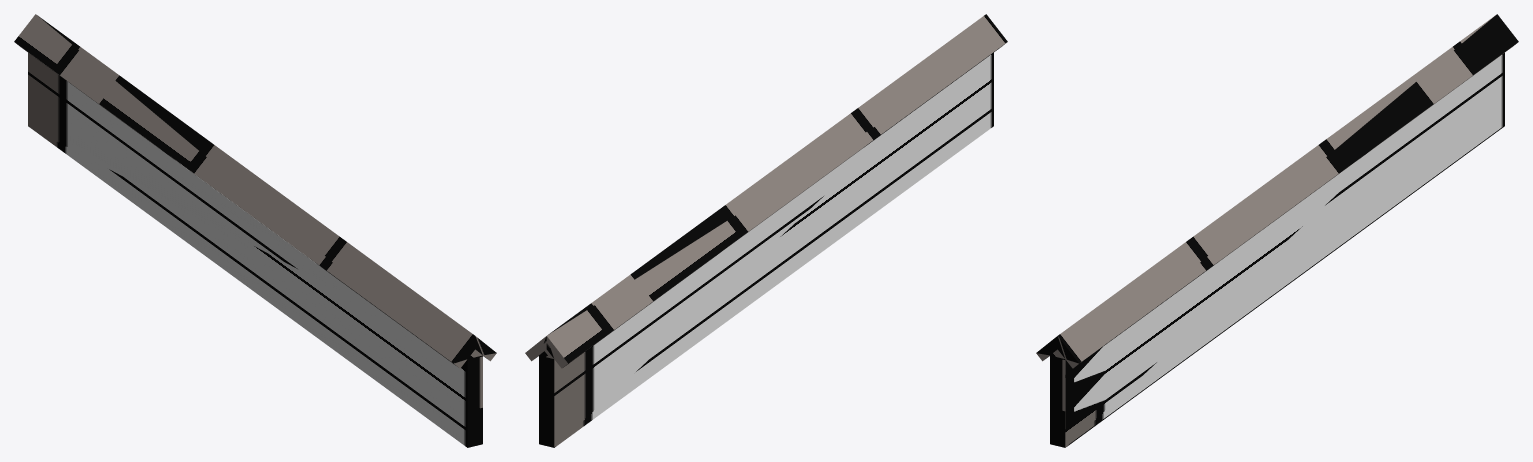
Rendered from fence.obj.
3 views of the same model, side by side, from view 1: azimuth 30°, elevation 25°; view 2: azimuth 150°, elevation 25°; view 3: azimuth 330°, elevation 25° (orthographic).
Visible parts, largest first — view 1: Cube; view 2: Cube; view 3: Cube.
Boxes of the visible parts, box(x1,y1,x2,y2) form: Cube: box(14, 14, 496, 447); Cube: box(525, 14, 1007, 447); Cube: box(1036, 14, 1518, 447).
Size of the model in its own units: 2.84 by 6.92 by 50.
1 material, 1 textured.
